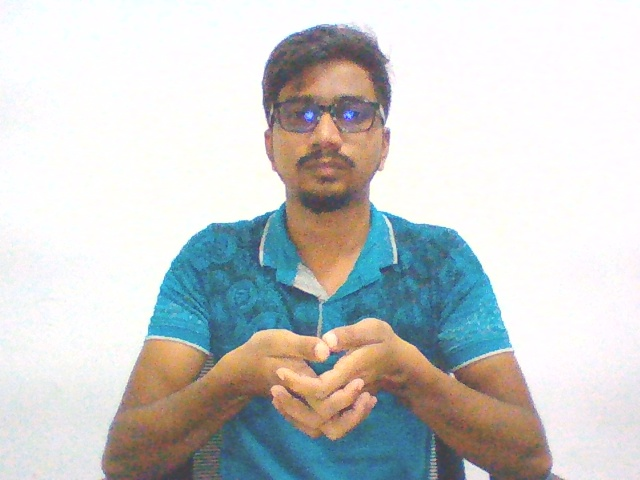mangosteen: (210, 313, 427, 447)
